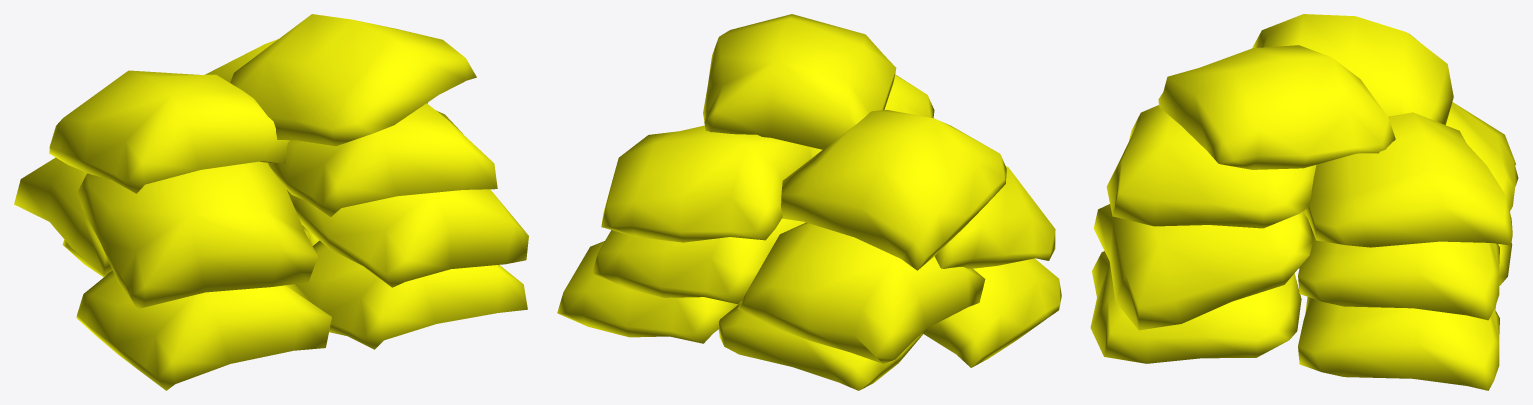
The model's file is thing_bag_01.glb.
The picture shows the model from 3 angles, left to right: view 1: azimuth 30°, elevation 25°; view 2: azimuth 150°, elevation 25°; view 3: azimuth 270°, elevation 25°; orthographic projection. The views are drawn at different scales.
Parts seen in each view (by area): view 1: thing_bag_01; view 2: thing_bag_01; view 3: thing_bag_01.
Part boxes in pixels (bbox=[...]): thing_bag_01: bbox=[14, 14, 528, 390]; thing_bag_01: bbox=[557, 14, 1061, 390]; thing_bag_01: bbox=[1090, 14, 1518, 390].
Size of the model in its own units: 3.63 by 2.38 by 3.29.
1 material, 1 textured.
